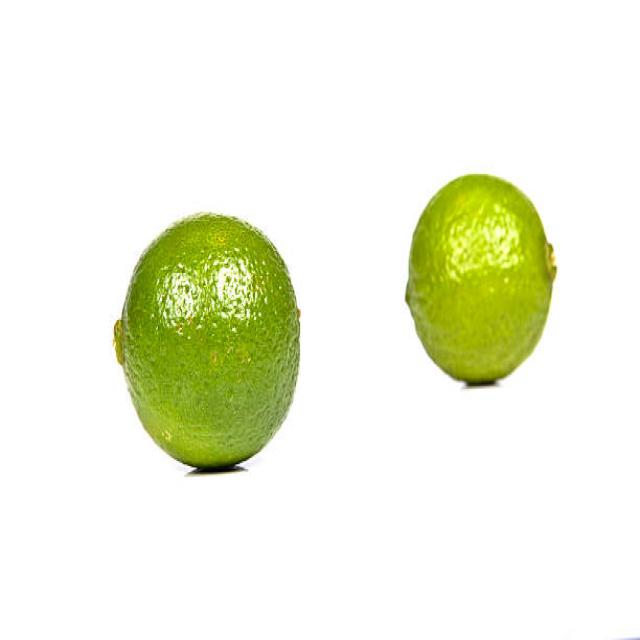Unripe: (113, 211, 300, 469), (403, 173, 558, 384)
